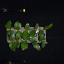leaf: (9, 42, 16, 52), (32, 42, 40, 50), (14, 21, 21, 30), (43, 23, 52, 30), (21, 41, 28, 50), (6, 20, 12, 30), (22, 30, 28, 40), (15, 30, 21, 40), (30, 30, 36, 39), (41, 41, 48, 48), (9, 33, 15, 41), (24, 23, 30, 30), (39, 35, 45, 41), (34, 23, 39, 30), (39, 30, 44, 36), (16, 41, 20, 48), (30, 39, 36, 42), (7, 30, 11, 34)
